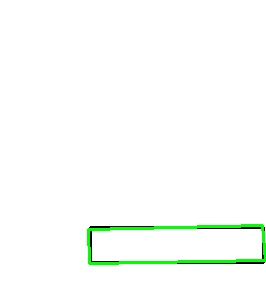line_segment: (88, 225, 266, 265)
